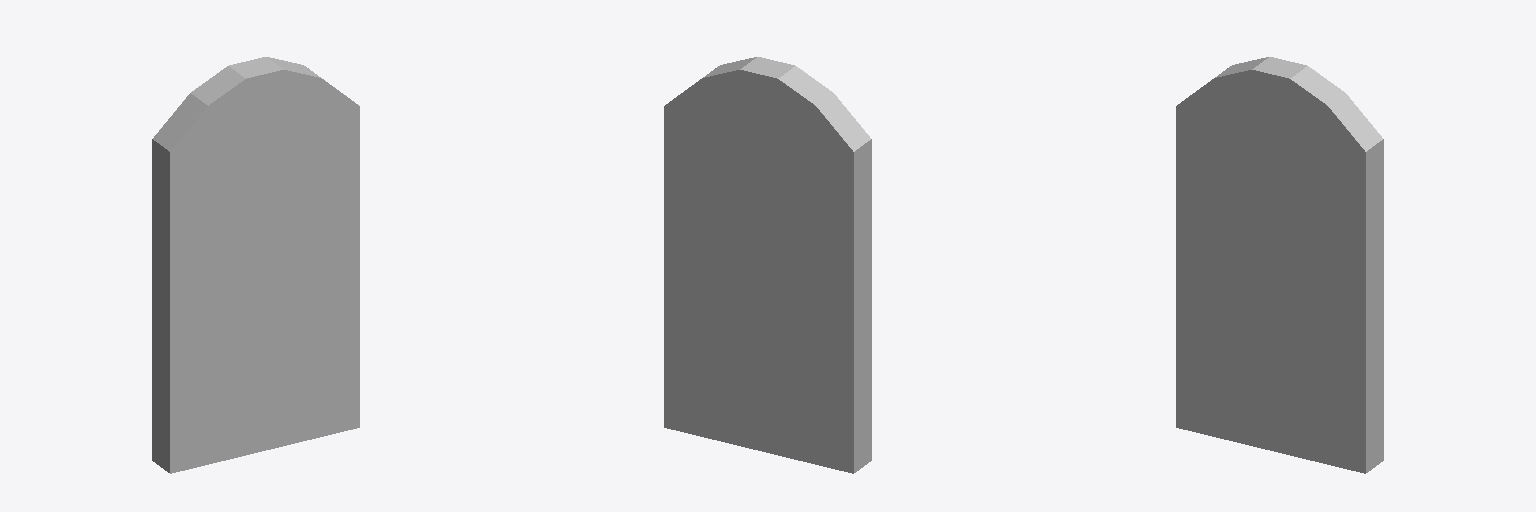
Rendered from roundedDoor.obj.
3 renders of one model, left to right at view 1: azimuth 30°, elevation 25°; view 2: azimuth 150°, elevation 25°; view 3: azimuth 330°, elevation 25°, orthographic.
Parts seen in each view (by area): view 1: obj.roundedDoor.000_Cube; view 2: obj.roundedDoor.000_Cube; view 3: obj.roundedDoor.000_Cube.
Boxes of the visible parts, <box> form: obj.roundedDoor.000_Cube: <box>152,57,359,473</box>; obj.roundedDoor.000_Cube: <box>664,57,871,473</box>; obj.roundedDoor.000_Cube: <box>1176,57,1383,473</box>.
Size of the model in its own units: 0.4271 by 0.8118 by 0.0696.